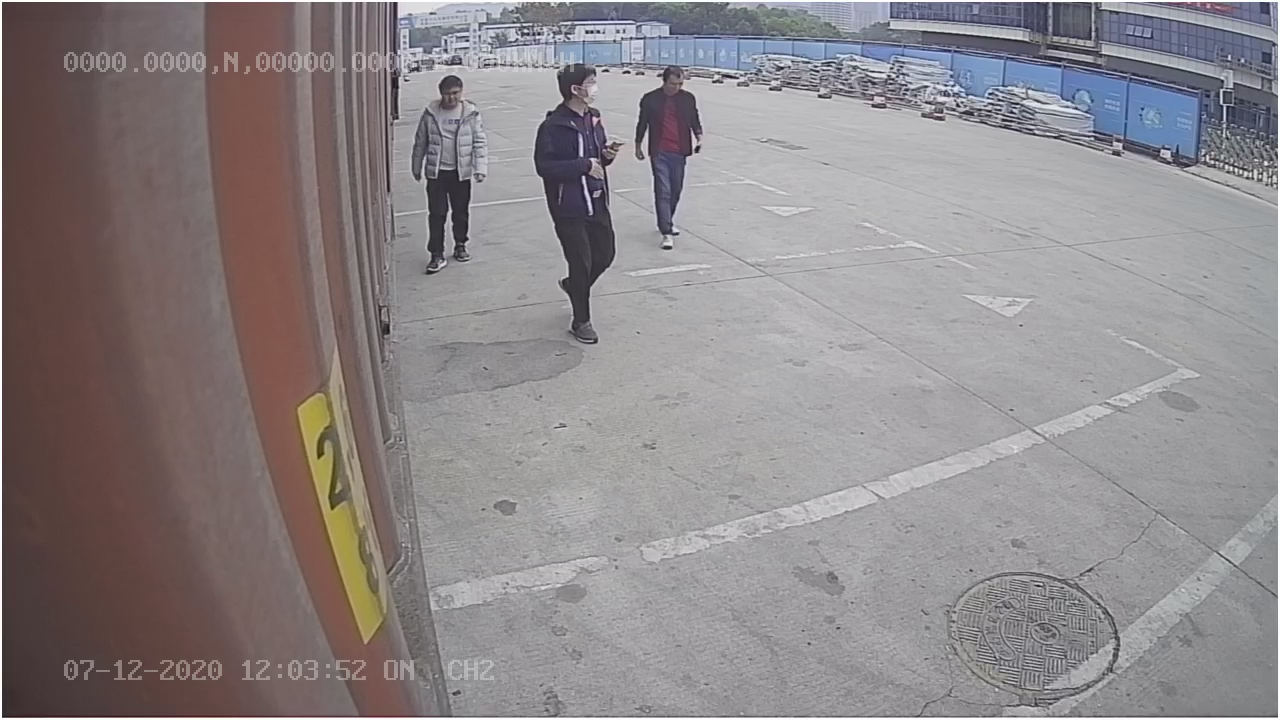person: (533, 58, 623, 346)
